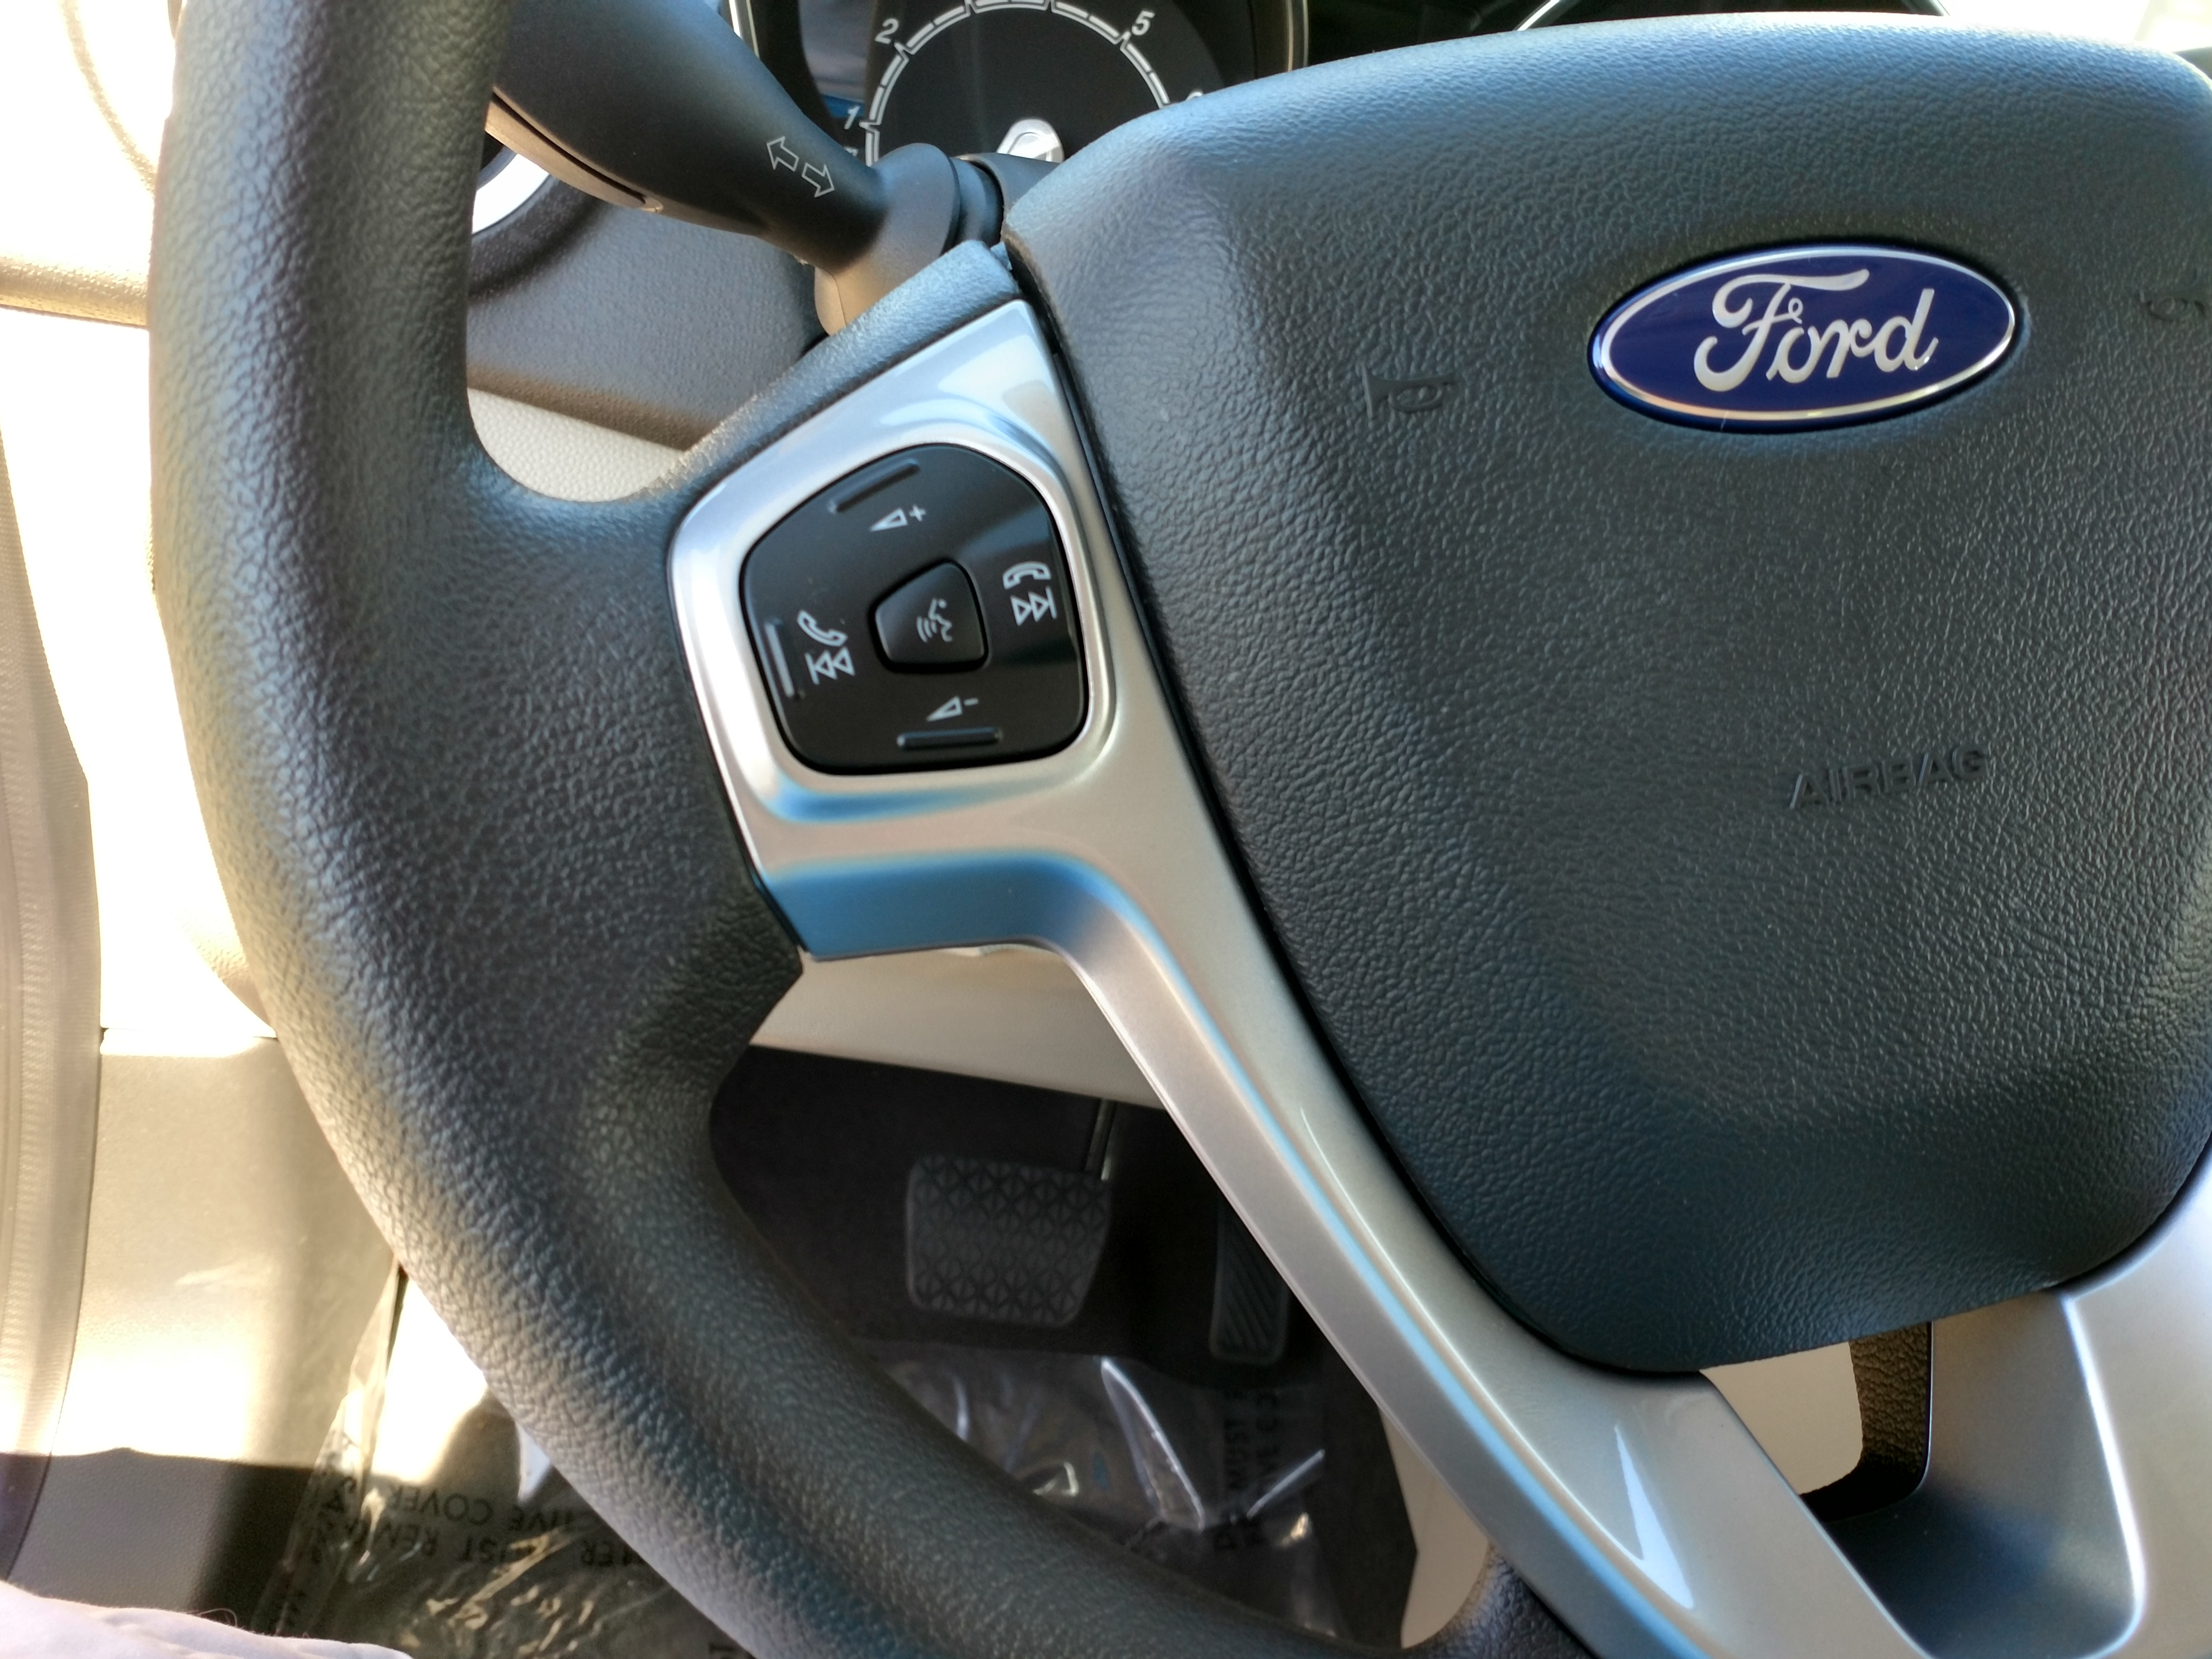Ford: (1569, 230, 2043, 443)
